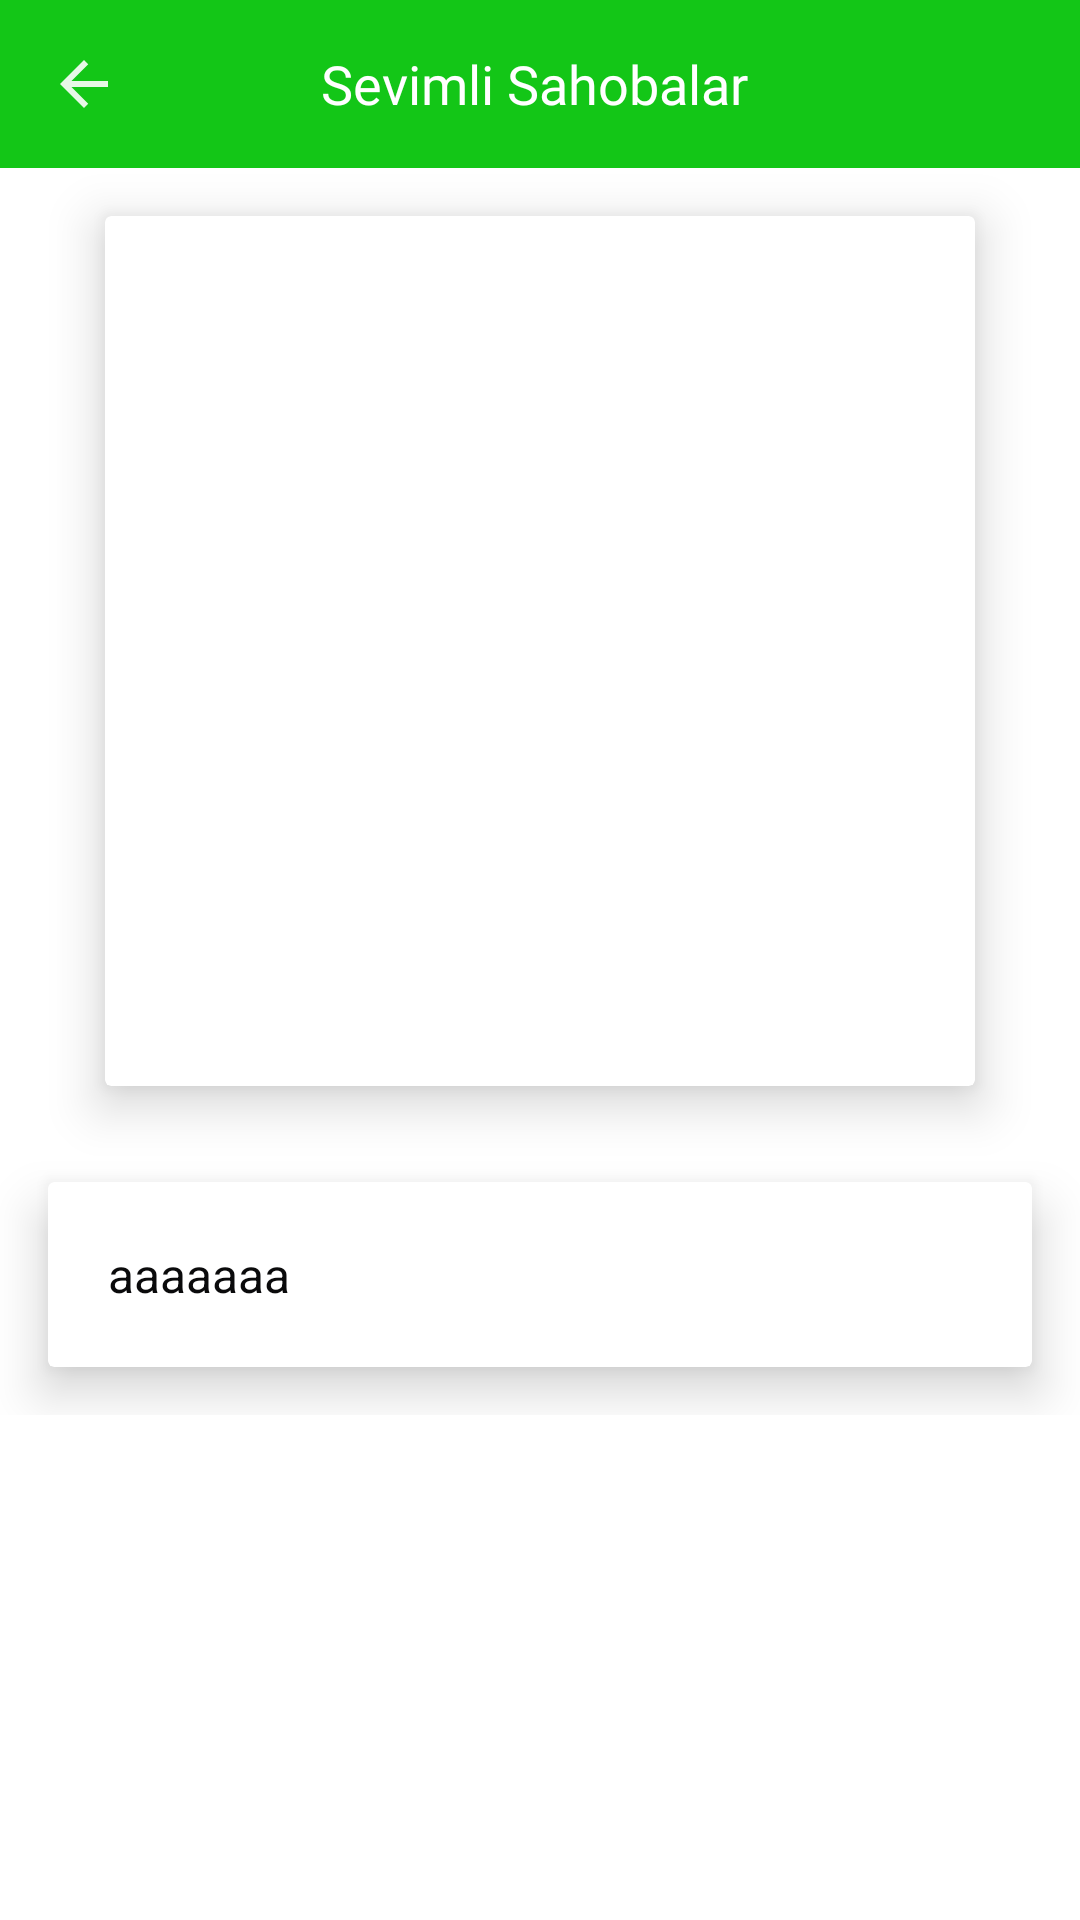

Screen size 1080w x 1920h. Icon name, then its center in pixels as [x,y]:
back: [84,84]
